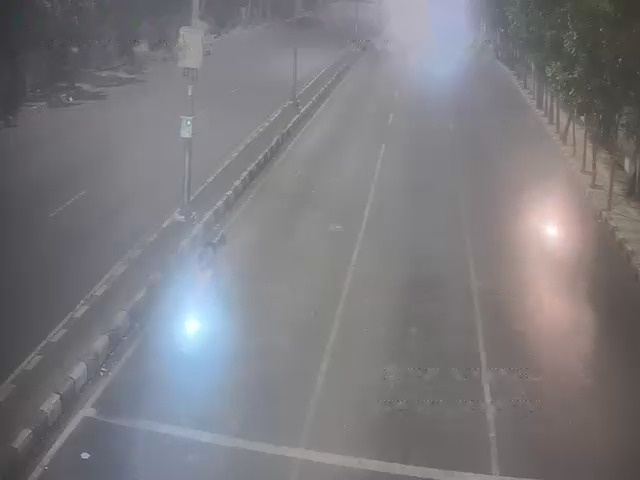Motor: (175, 301, 212, 355), (533, 204, 570, 247)
